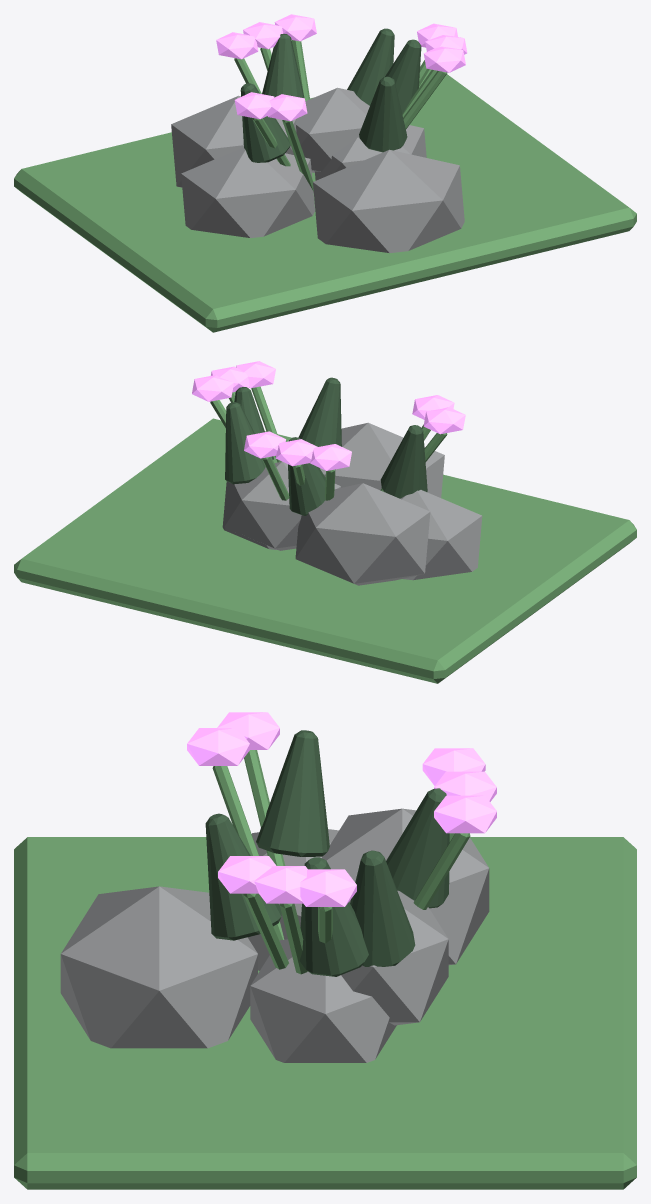
File: gravewood_moss_and_nightshade.glb
3 renders of one model, top to bottom at view 1: azimuth 30°, elevation 25°; view 2: azimuth 150°, elevation 25°; view 3: azimuth 270°, elevation 25°, orthographic. The views are drawn at different scales.
Size of the model in its own units: 2.3 by 0.9073 by 1.85.
